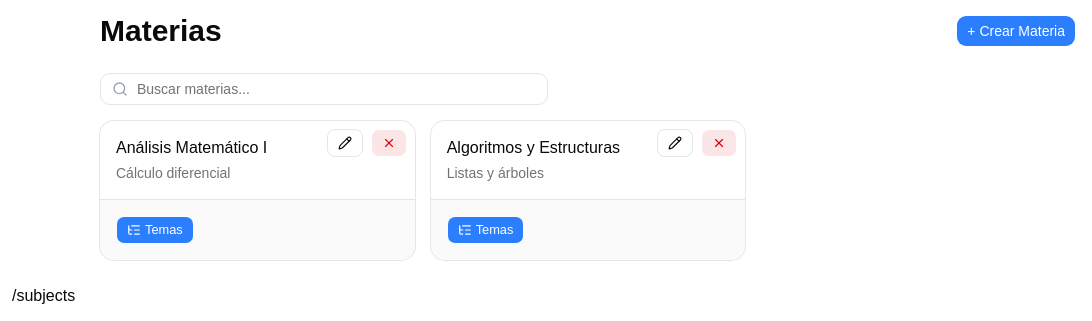
Test: Subjects Page › filtra las materias al escribir en el buscador
Type "Algoritmos" into the field with placeholder "Buscar materias..." at (324, 89), box top-left (100, 73), bottom-right (548, 105)
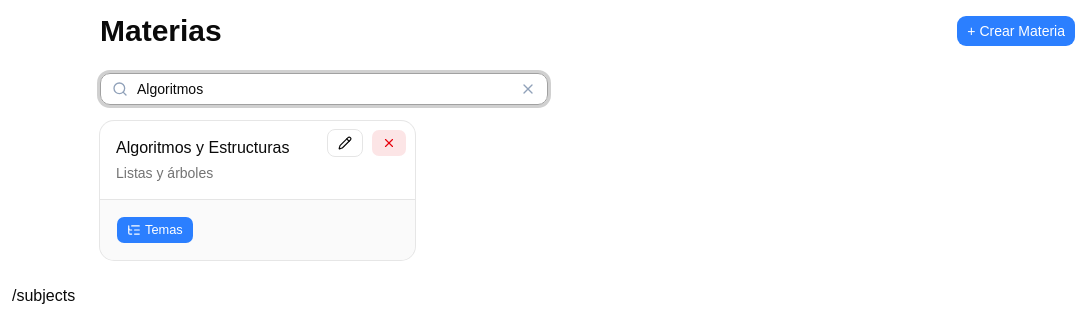
expect the text "Algoritmos y Estructuras" is shown: met, box top-left (116, 139), bottom-right (289, 156)
expect the text "Análisis Matemático I" is gone: met
